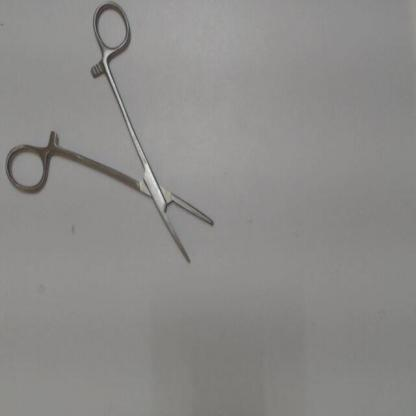Mayo Needle Holder: (0, 0, 247, 287)
